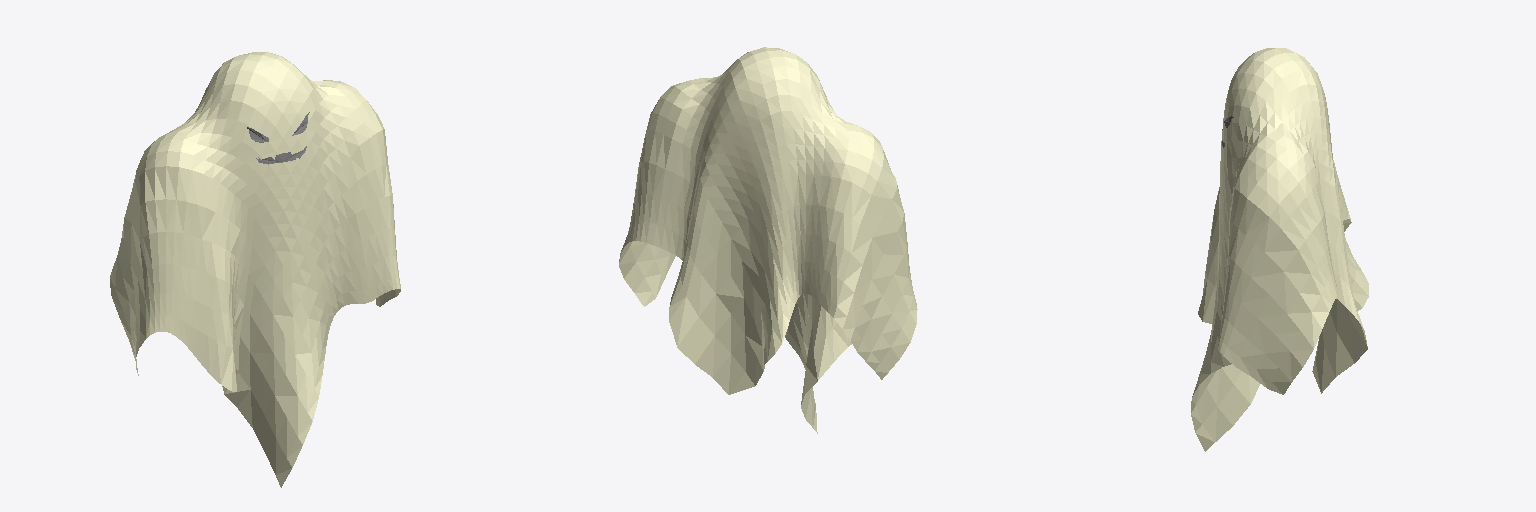
The picture shows the model from 3 angles: view 1: azimuth 30°, elevation 25°; view 2: azimuth 150°, elevation 25°; view 3: azimuth 270°, elevation 25°; orthographic projection.
Visible parts, largest first — view 1: OBJ:Gost; view 2: OBJ:Gost; view 3: OBJ:Gost.
Part boxes in pixels (left/top/right/bottom): OBJ:Gost: left=110, top=52, right=400, bottom=487; OBJ:Gost: left=619, top=47, right=917, bottom=433; OBJ:Gost: left=1191, top=48, right=1368, bottom=451.
Bounding box in the file's own units: 2.67 × 3.89 × 1.55.
Materials: 2 (2 with a texture image).